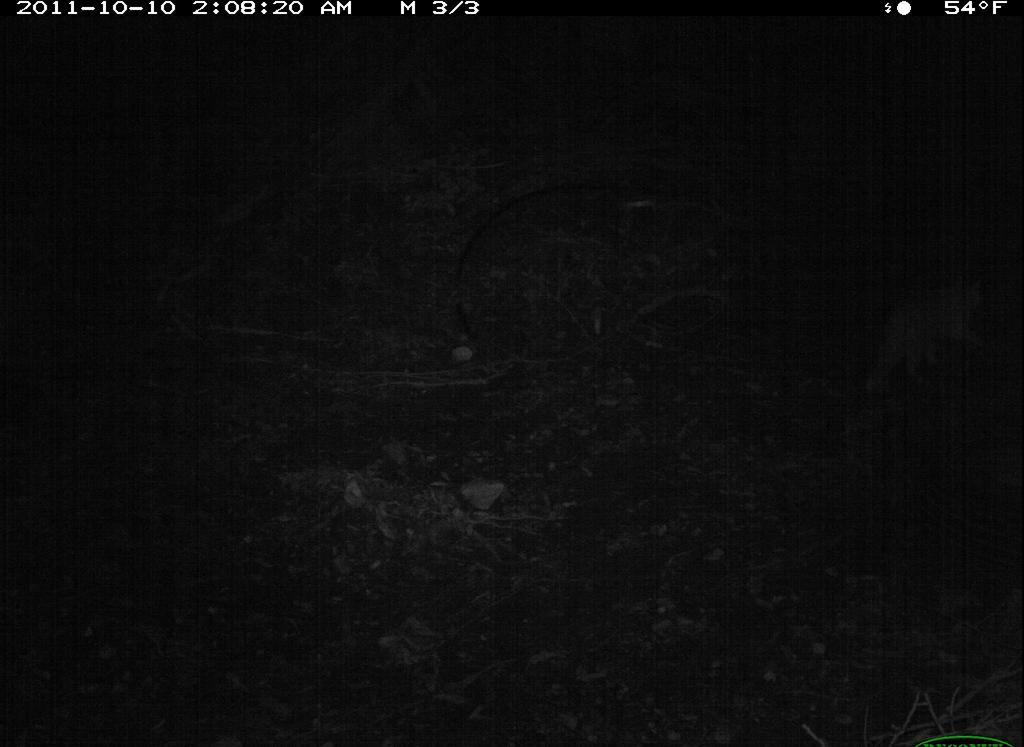cat: (851, 265, 1006, 399)
